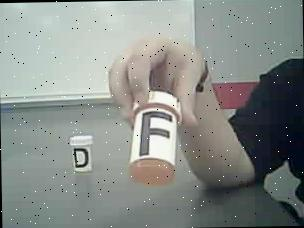Bottle D: (68, 132, 96, 176)
Bottle F: (126, 84, 186, 199)
